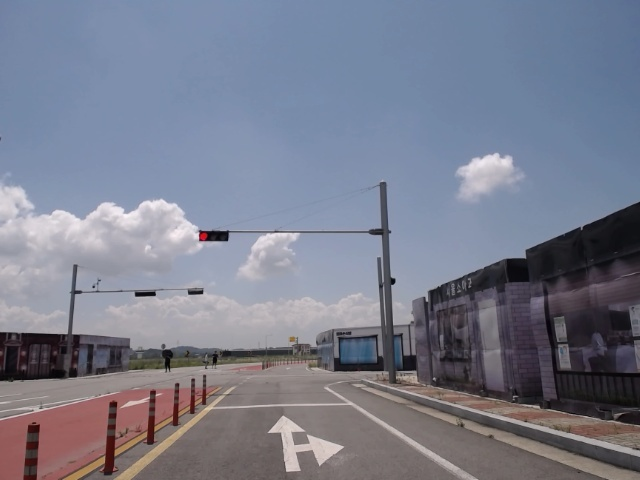red_3: (197, 229, 232, 241)
